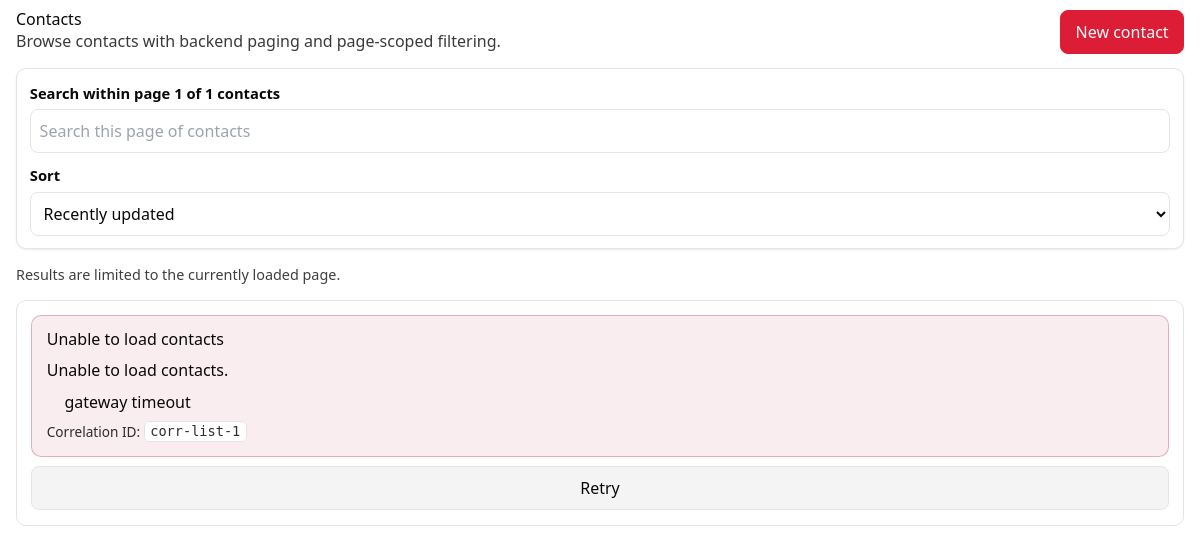
Test: contacts page › renders error details with correlation id and supports retry
Expected: the text "Unable to load contacts." is shown, [47, 359, 228, 381]
Expected: the list item "gateway timeout" is shown, [64, 391, 191, 413]
Click the button "Retry". click: click(600, 488)
box: [31, 466, 1169, 510]
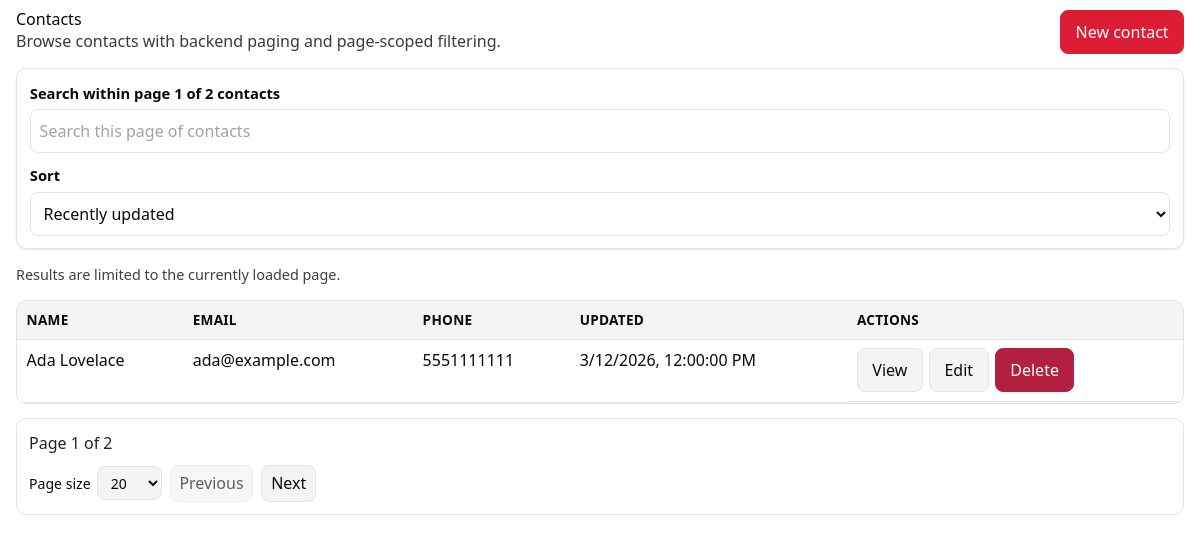
Expected: the text "Ada Lovelace" is shown, [17, 339, 183, 402]
